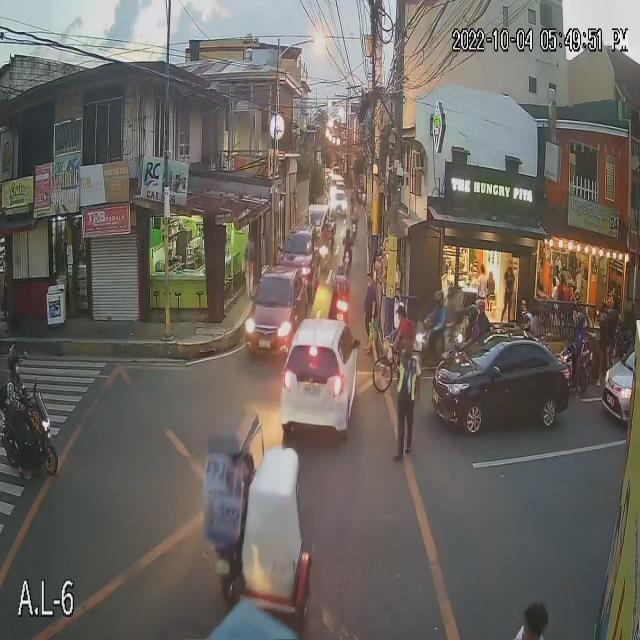helmet: (4, 347, 24, 379), (338, 225, 355, 243), (431, 291, 444, 307), (476, 297, 485, 319), (522, 311, 533, 329), (465, 304, 476, 321), (577, 312, 586, 329), (335, 264, 348, 275)
motorcycle: (0, 391, 57, 475), (407, 326, 456, 371), (553, 347, 595, 390), (321, 291, 355, 327), (338, 248, 357, 275), (349, 222, 362, 237)
rider: (6, 332, 26, 422), (459, 303, 479, 346), (431, 285, 446, 331), (474, 294, 490, 334), (522, 309, 535, 355), (574, 310, 589, 349), (336, 261, 349, 306), (341, 228, 353, 253)
